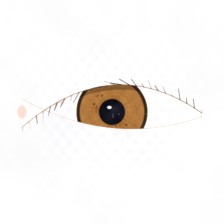pterygium_lesion: (137, 85, 204, 139)
